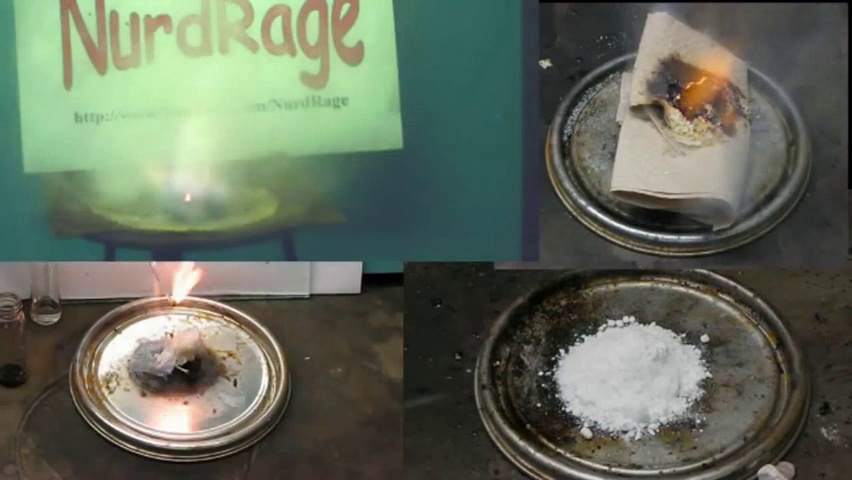fire: (669, 44, 739, 124), (141, 255, 213, 323)
